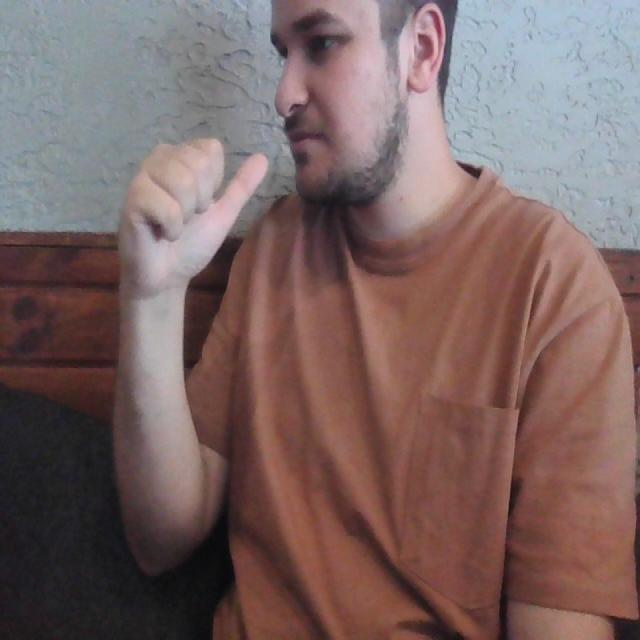icmek: (124, 119, 344, 262)
